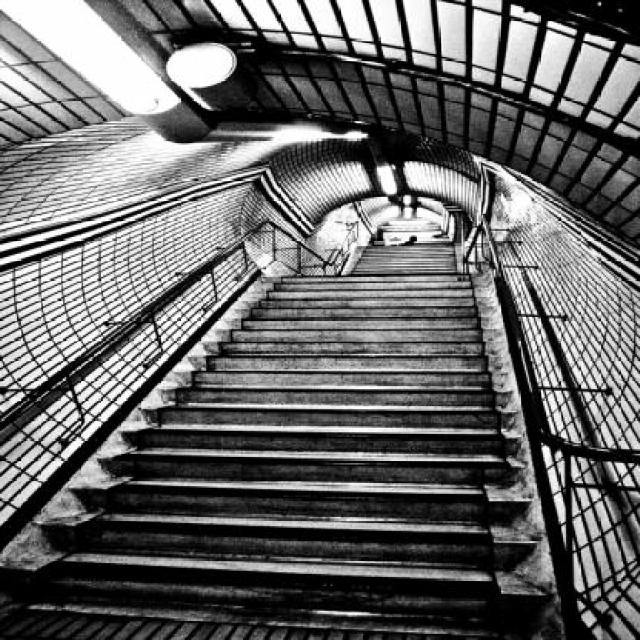stair: (0, 237, 557, 640)
